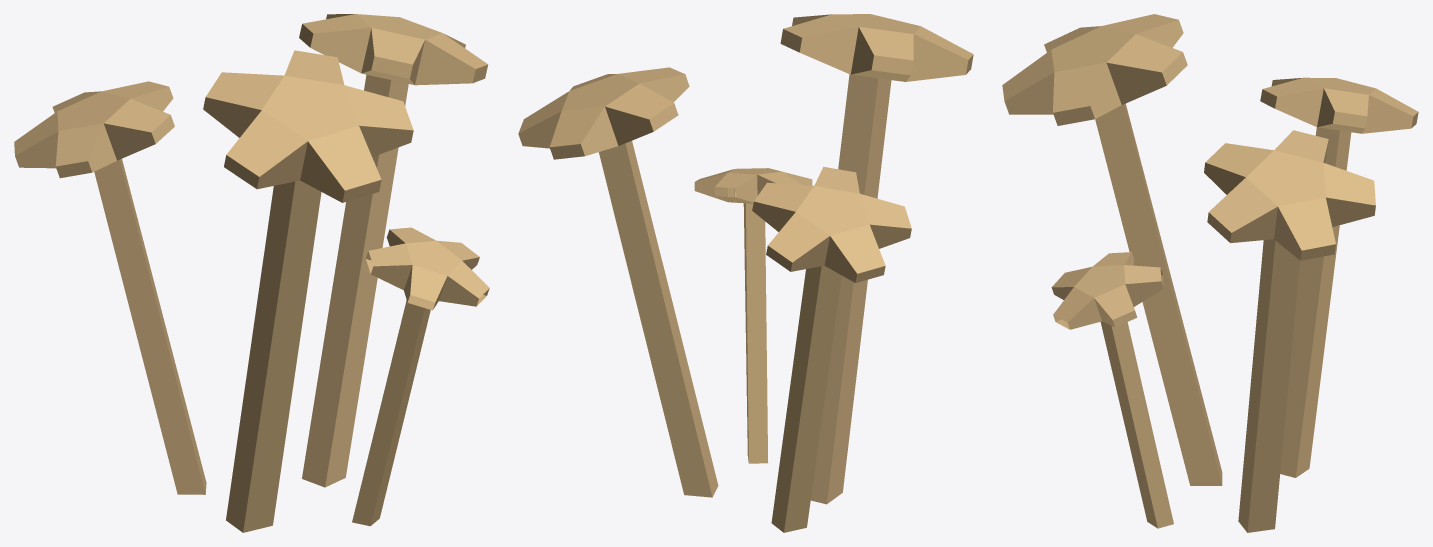
Rendered from Mega_Asset_s_Pack_Cube_370.FBX.
3 views of the same model, side by side, from view 1: azimuth 30°, elevation 25°; view 2: azimuth 150°, elevation 25°; view 3: azimuth 270°, elevation 25° (orthographic). The views are drawn at different scales.
Parts seen in each view (by area): view 1: Mega_Asset_s_Pack_Cube_370; view 2: Mega_Asset_s_Pack_Cube_370; view 3: Mega_Asset_s_Pack_Cube_370.
Boxes of the visible parts, left/top/right/bottom form: Mega_Asset_s_Pack_Cube_370: left=14, top=14, right=489, bottom=532; Mega_Asset_s_Pack_Cube_370: left=518, top=14, right=973, bottom=532; Mega_Asset_s_Pack_Cube_370: left=1002, top=14, right=1418, bottom=532.
Size of what is drawn, in the model's own units: 58.23 by 53.62 by 63.34.
